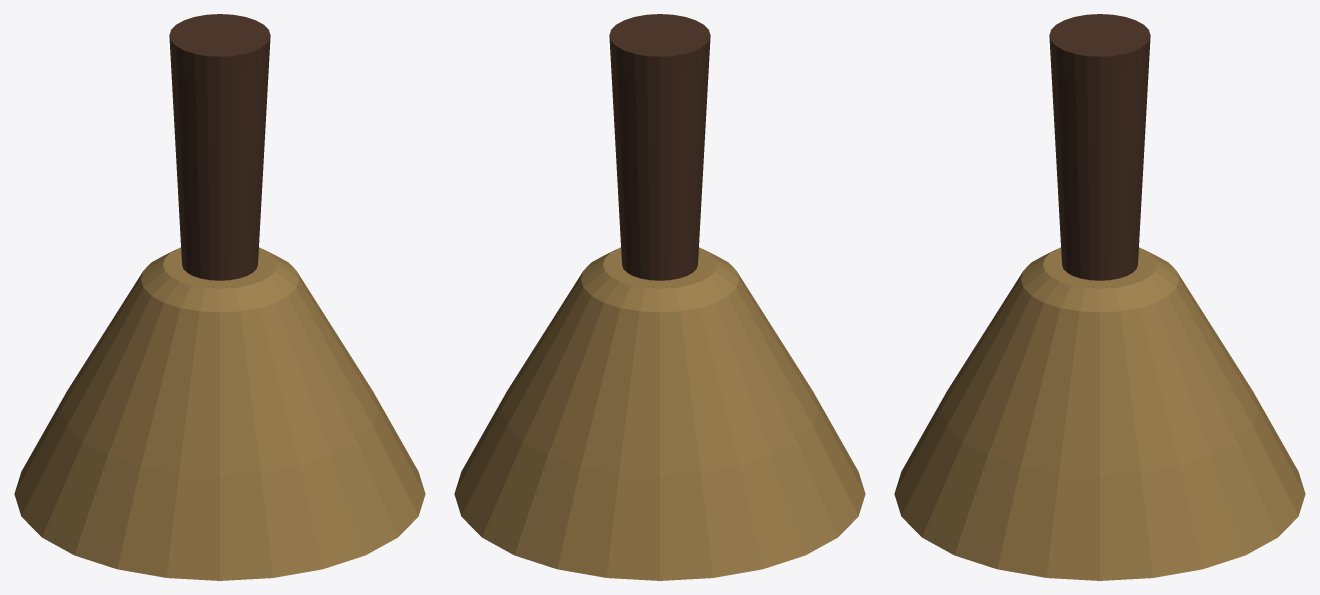
The model's file is Bell.fbx.
The picture shows the model from 3 angles, left to right: view 1: azimuth 30°, elevation 25°; view 2: azimuth 150°, elevation 25°; view 3: azimuth 270°, elevation 25°; orthographic projection.
Visible parts, largest first — view 1: bell, bell handle; view 2: bell, bell handle; view 3: bell, bell handle.
Part boxes in pixels (x1=…): bell: x1=14, y1=247, x2=425, y2=580; bell handle: x1=169, y1=14, x2=270, y2=280; bell: x1=454, y1=247, x2=865, y2=580; bell handle: x1=609, y1=14, x2=710, y2=280; bell: x1=894, y1=247, x2=1305, y2=580; bell handle: x1=1049, y1=14, x2=1150, y2=280.
Bounding box in the file's own units: 13 × 16 × 13.
